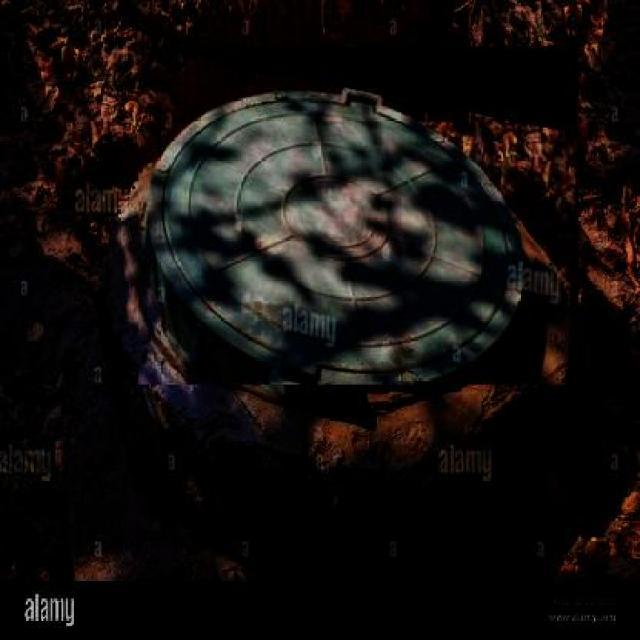Manhole: (138, 47, 578, 384)
